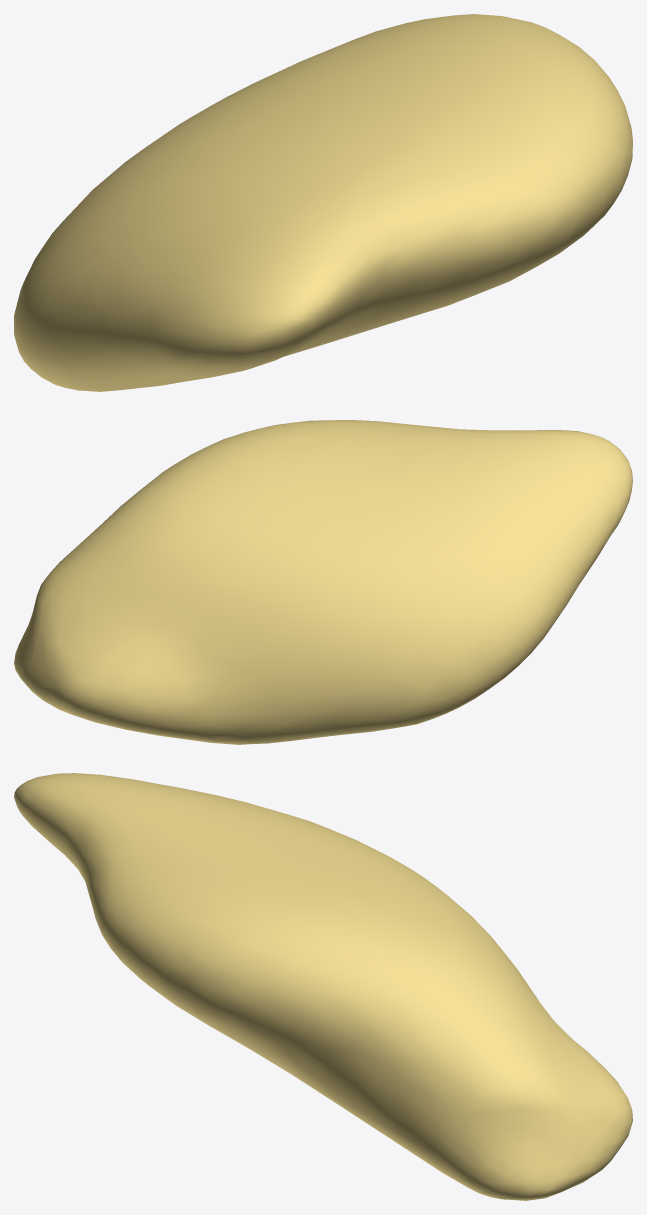
File: fma73066_mm2800.glb
3 views of the same model, one above another, from view 1: azimuth 30°, elevation 25°; view 2: azimuth 150°, elevation 25°; view 3: azimuth 270°, elevation 25° (orthographic). The views are drawn at different scales.
Visible parts, largest first — view 1: FMA73066_MM2800; view 2: FMA73066_MM2800; view 3: FMA73066_MM2800.
Boxes of the visible parts, <box> form: FMA73066_MM2800: <box>14,14,632,391</box>; FMA73066_MM2800: <box>14,420,632,744</box>; FMA73066_MM2800: <box>14,773,632,1200</box>.
Bounding box in the file's own units: 0.00754 × 0.00353 × 0.0078.
